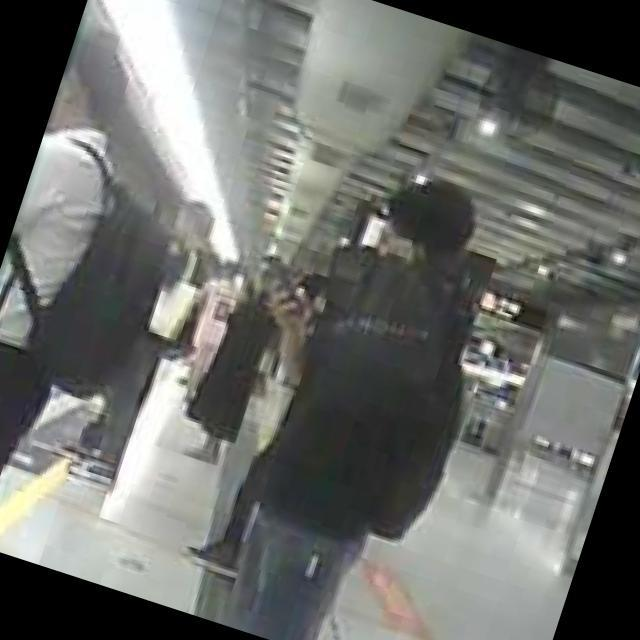person: (179, 145, 531, 640), (0, 33, 162, 553), (48, 182, 240, 501), (170, 243, 302, 475)
